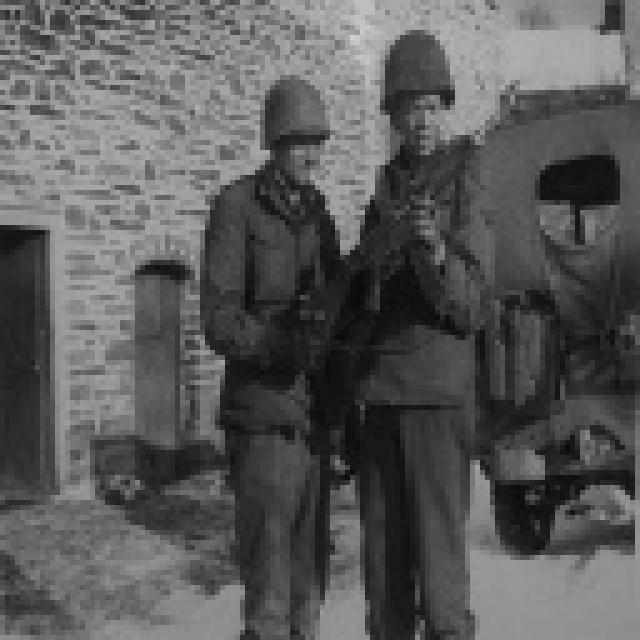Rifle: (300, 119, 506, 381)
